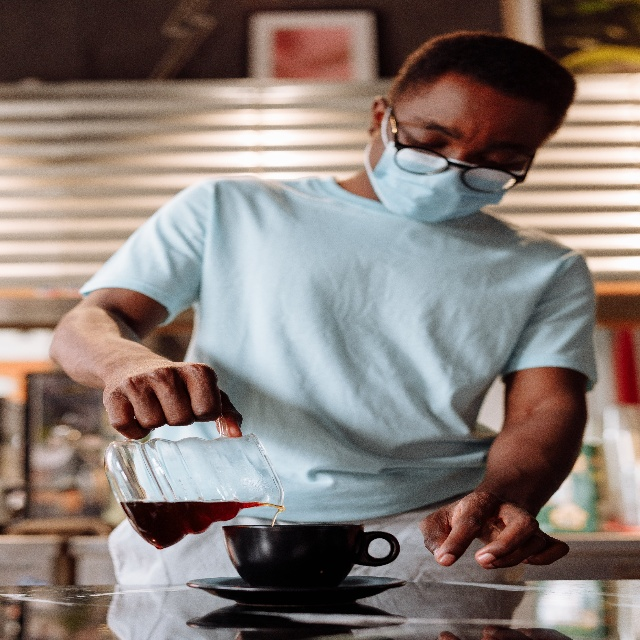Gafas: (399, 140, 531, 199)
Mascara: (374, 144, 519, 220)
Sin_guantes: (419, 487, 572, 569), (104, 350, 240, 438)
